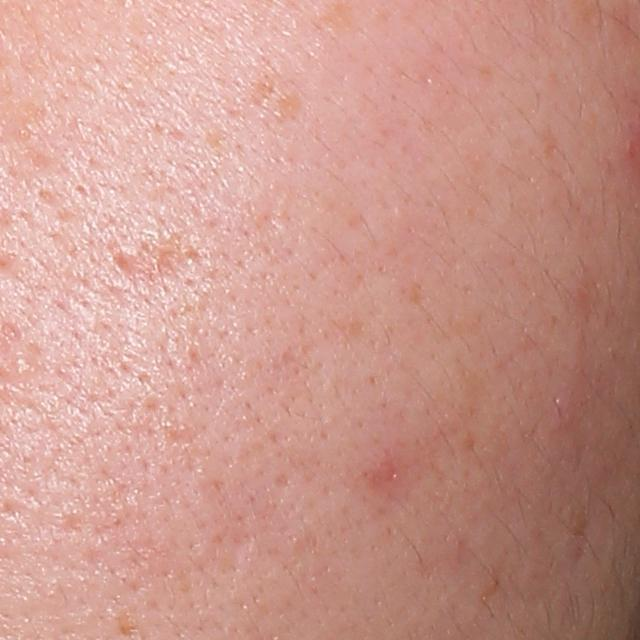atrophic_scar: (112, 236, 192, 290)
